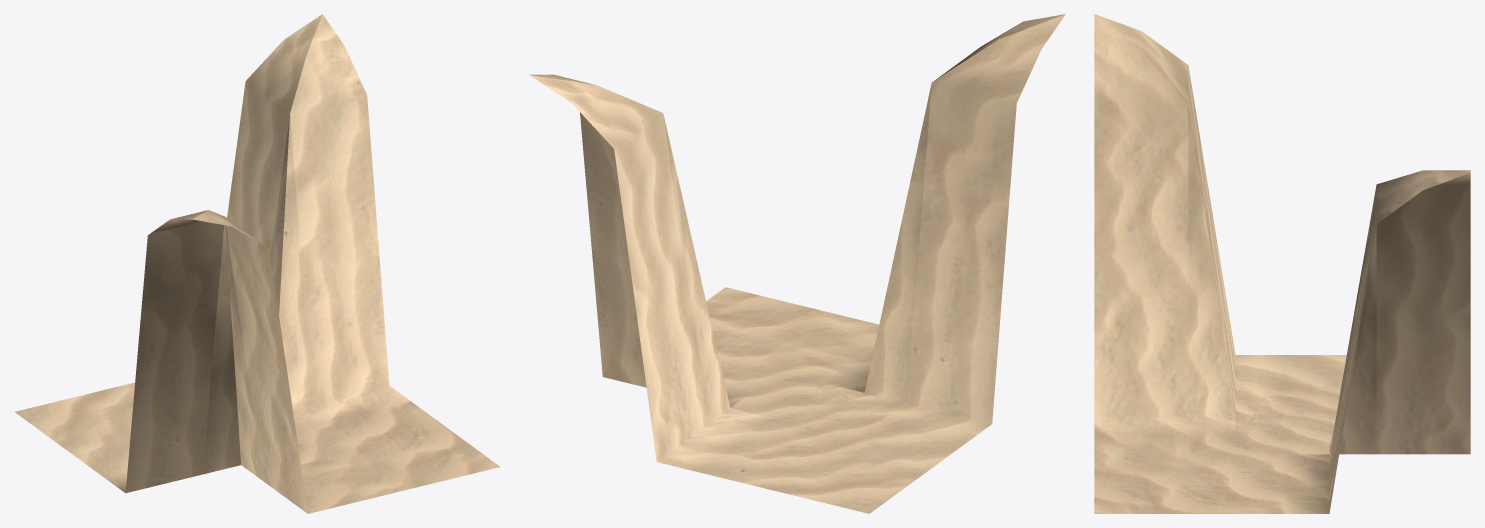
File: Sand4d.obj
3 views of the same model, side by side, from view 1: azimuth 30°, elevation 25°; view 2: azimuth 150°, elevation 25°; view 3: azimuth 270°, elevation 25° (orthographic). The views are drawn at different scales.
Parts seen in each view (by area): view 1: Grid_Grid.024_Grid_Grid.012; view 2: Grid_Grid.024_Grid_Grid.012; view 3: Grid_Grid.024_Grid_Grid.012.
Boxes of the visible parts, box(x1,y1,x2,y2) form: Grid_Grid.024_Grid_Grid.012: box(15, 14, 499, 513); Grid_Grid.024_Grid_Grid.012: box(529, 14, 1065, 513); Grid_Grid.024_Grid_Grid.012: box(1094, 14, 1470, 513).
Size of the model in its own units: 1 by 1 by 1.
Materials: 1 (1 with a texture image).
